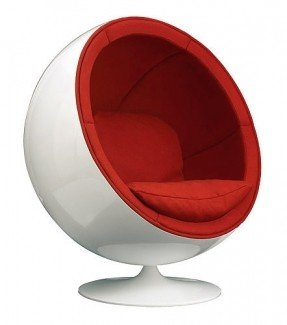chairs: (24, 17, 264, 309)
